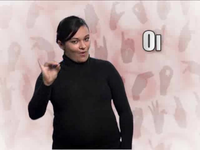oi: (35, 57, 62, 85)
